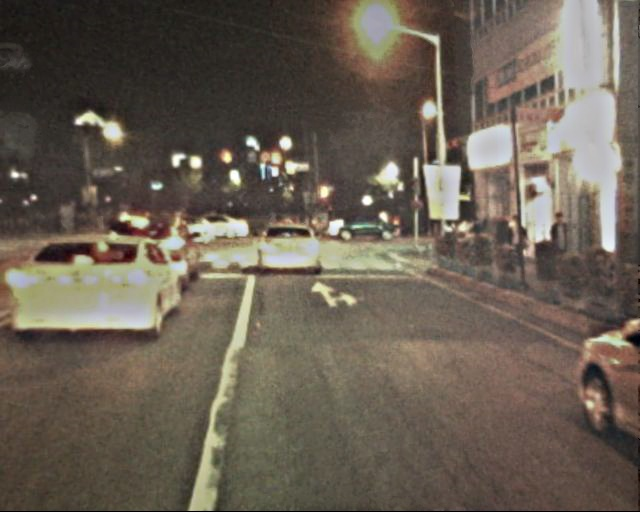person: (546, 213, 577, 289), (38, 205, 113, 235), (503, 212, 528, 271), (265, 211, 312, 232)
